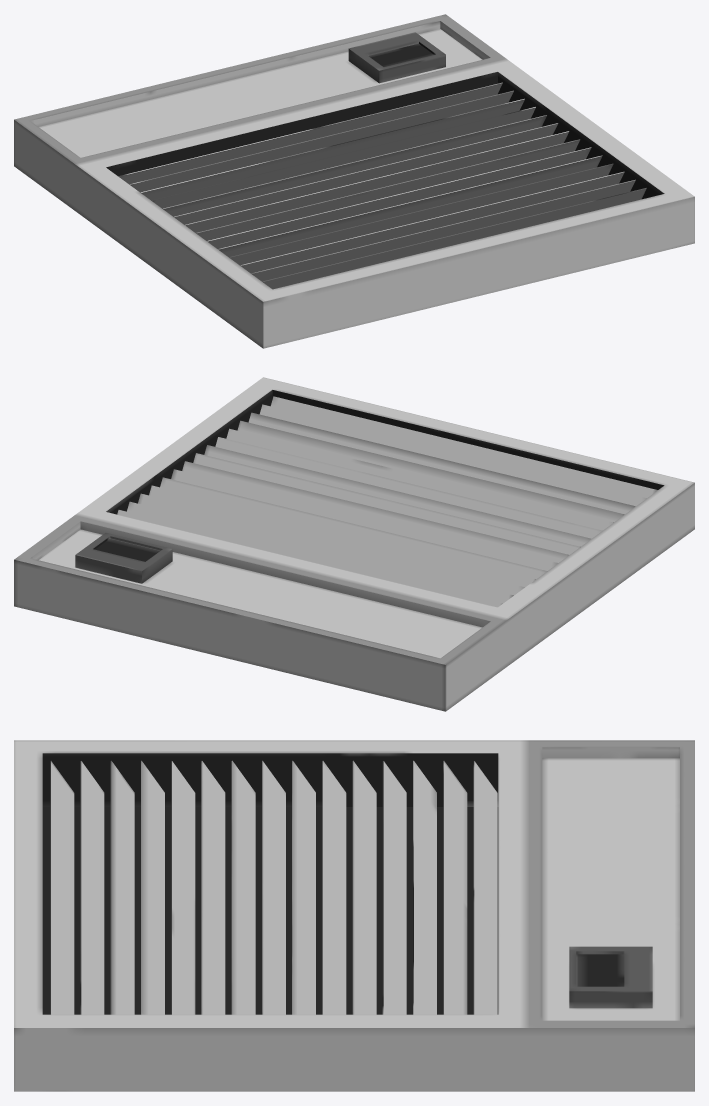
Rendered from Vent_A.fbx.
3 renders of one model, top to bottom at view 1: azimuth 30°, elevation 25°; view 2: azimuth 150°, elevation 25°; view 3: azimuth 270°, elevation 25°, orthographic. The views are drawn at different scales.
Visible parts, largest first — view 1: Vent_A; view 2: Vent_A; view 3: Vent_A.
Boxes of the visible parts, box(x1,y1,x2,y2) form: Vent_A: box(14, 14, 694, 348); Vent_A: box(14, 377, 694, 711); Vent_A: box(14, 740, 694, 1091).
Bounding box in the file's own units: 200 × 22.68 × 200.
